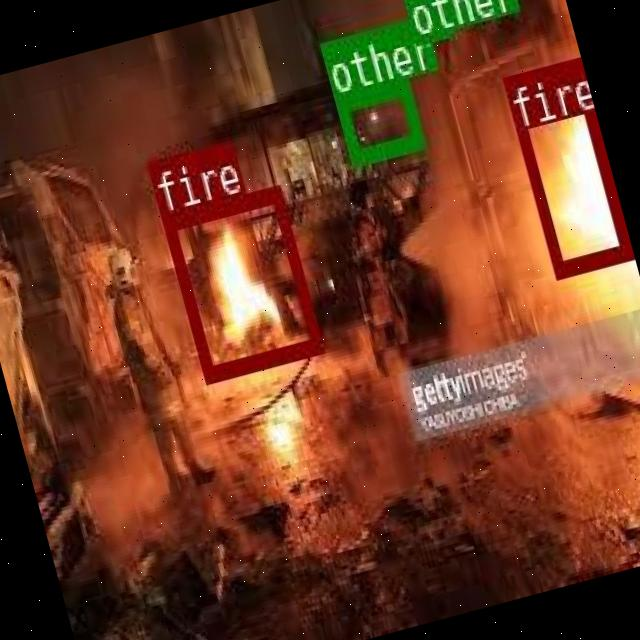fire: (158, 182, 322, 382), (499, 55, 628, 274)
